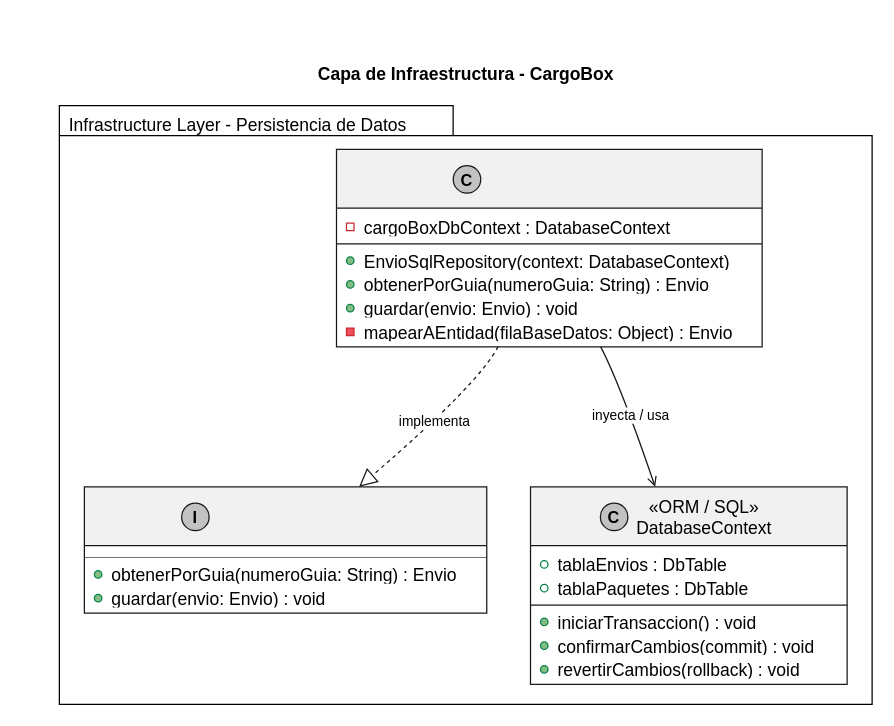
Image size: 894x726. Some labels were removed from this diagram. The box of each missing label's shape, as (x1, y1, x2, y2) in pixels:
«Interface (Domain)» IEnvioRepository: (83, 486, 487, 613)
«Repository» EnvioSqlRepository: (335, 148, 762, 347)
